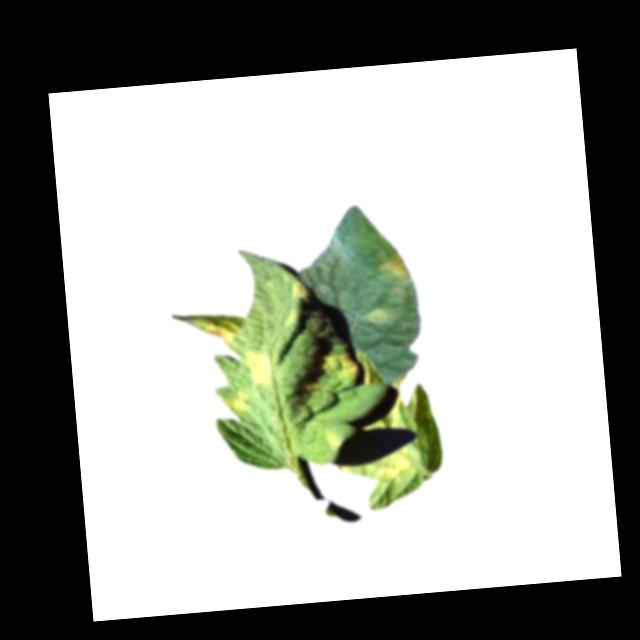Leaf_Mold: (176, 308, 245, 350), (376, 446, 419, 486), (322, 349, 362, 383), (245, 345, 276, 388), (377, 254, 414, 284), (361, 304, 401, 330), (218, 392, 258, 417)
